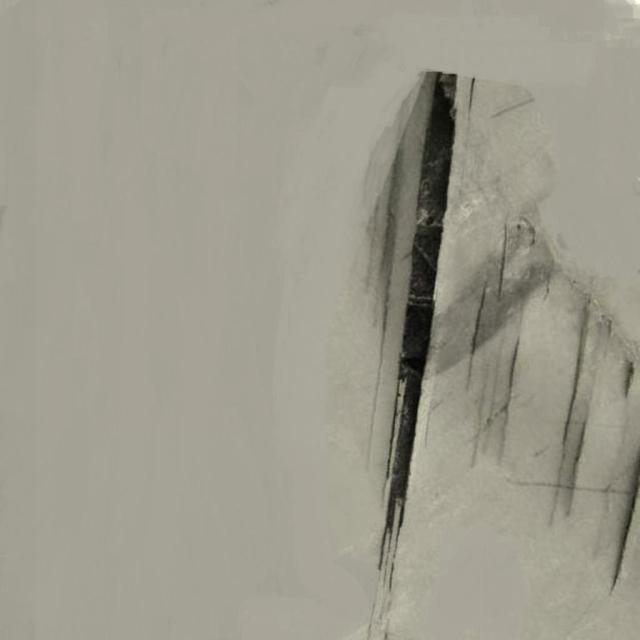crack: (475, 225, 640, 573), (375, 71, 459, 602)
